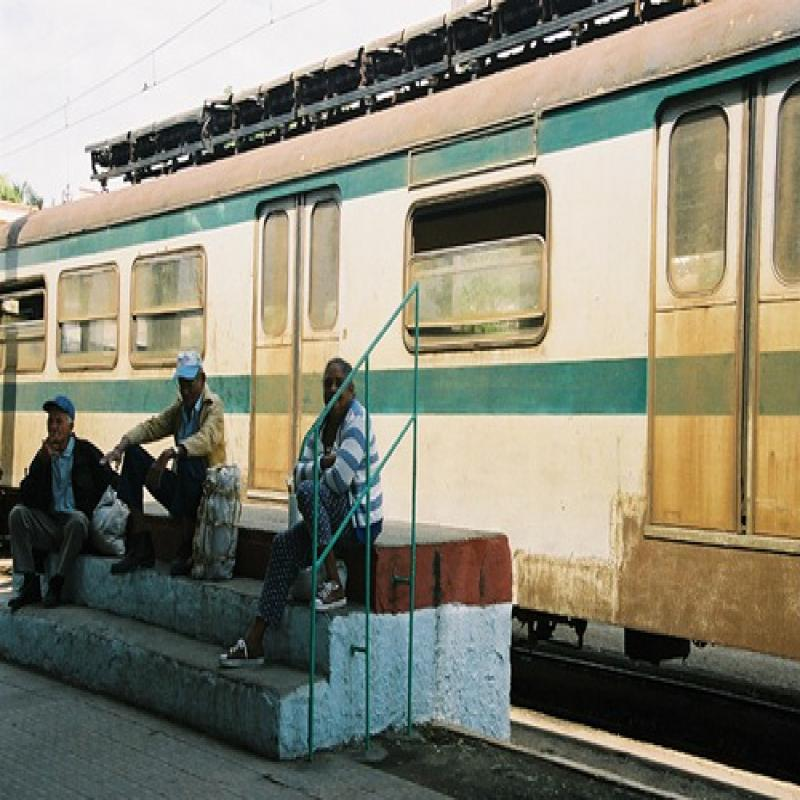train: (1, 1, 798, 672)
